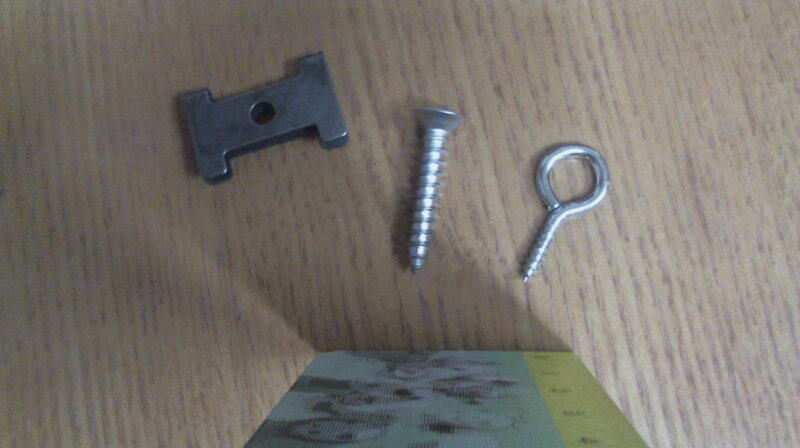O001: (515, 140, 613, 287)
O002: (172, 50, 351, 184)
S001: (402, 106, 466, 276)
